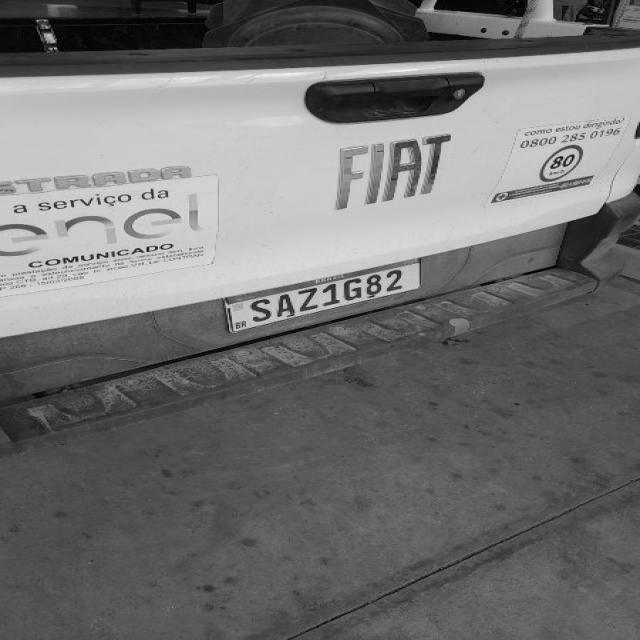placa_mercosul: (225, 257, 423, 335)
